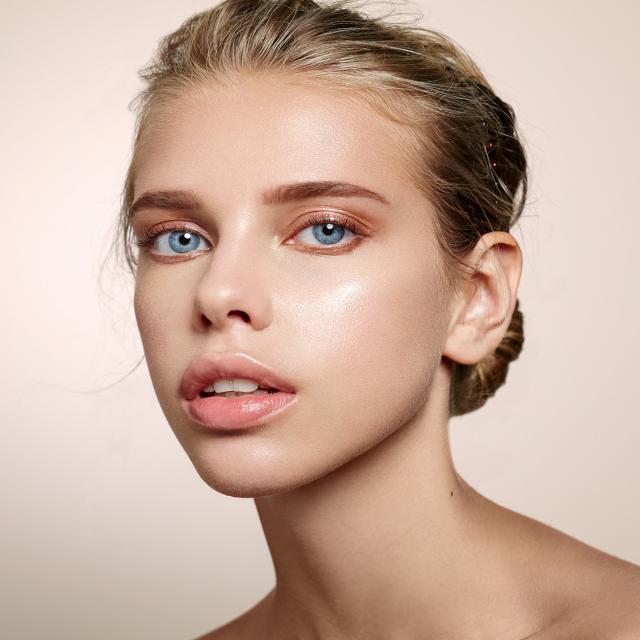earlobe: (451, 318, 494, 366)
eye: (280, 213, 370, 252), (145, 224, 214, 257)
nose: (187, 304, 265, 347)
wholeear: (451, 231, 523, 365)
